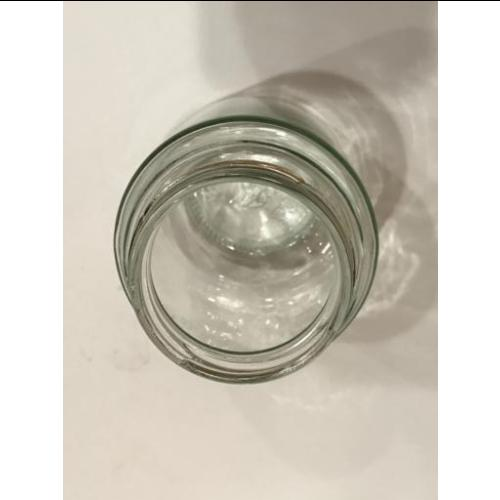glass: (113, 120, 382, 384)
